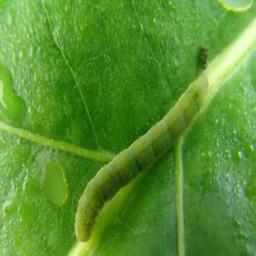Tobacco_budworm: (69, 75, 209, 241)
